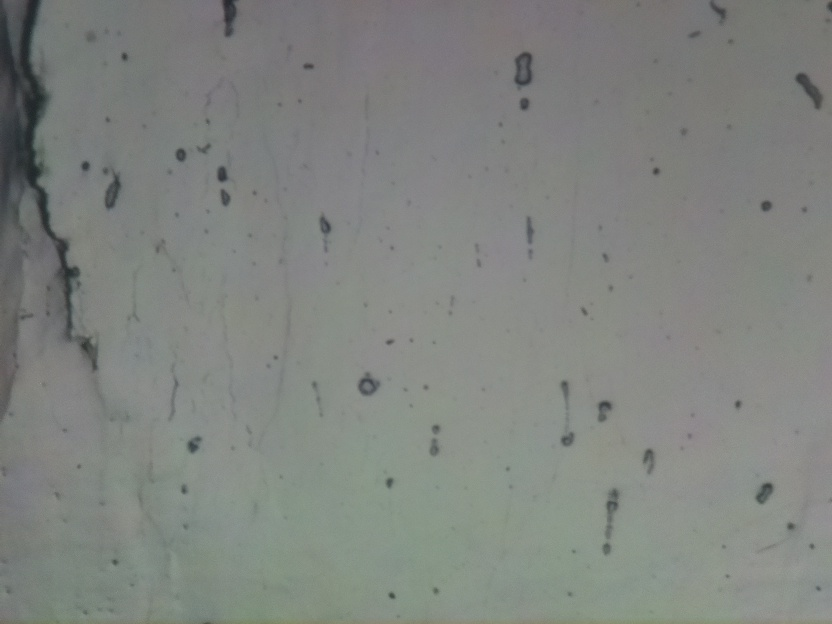crack: (18, 0, 100, 367)
